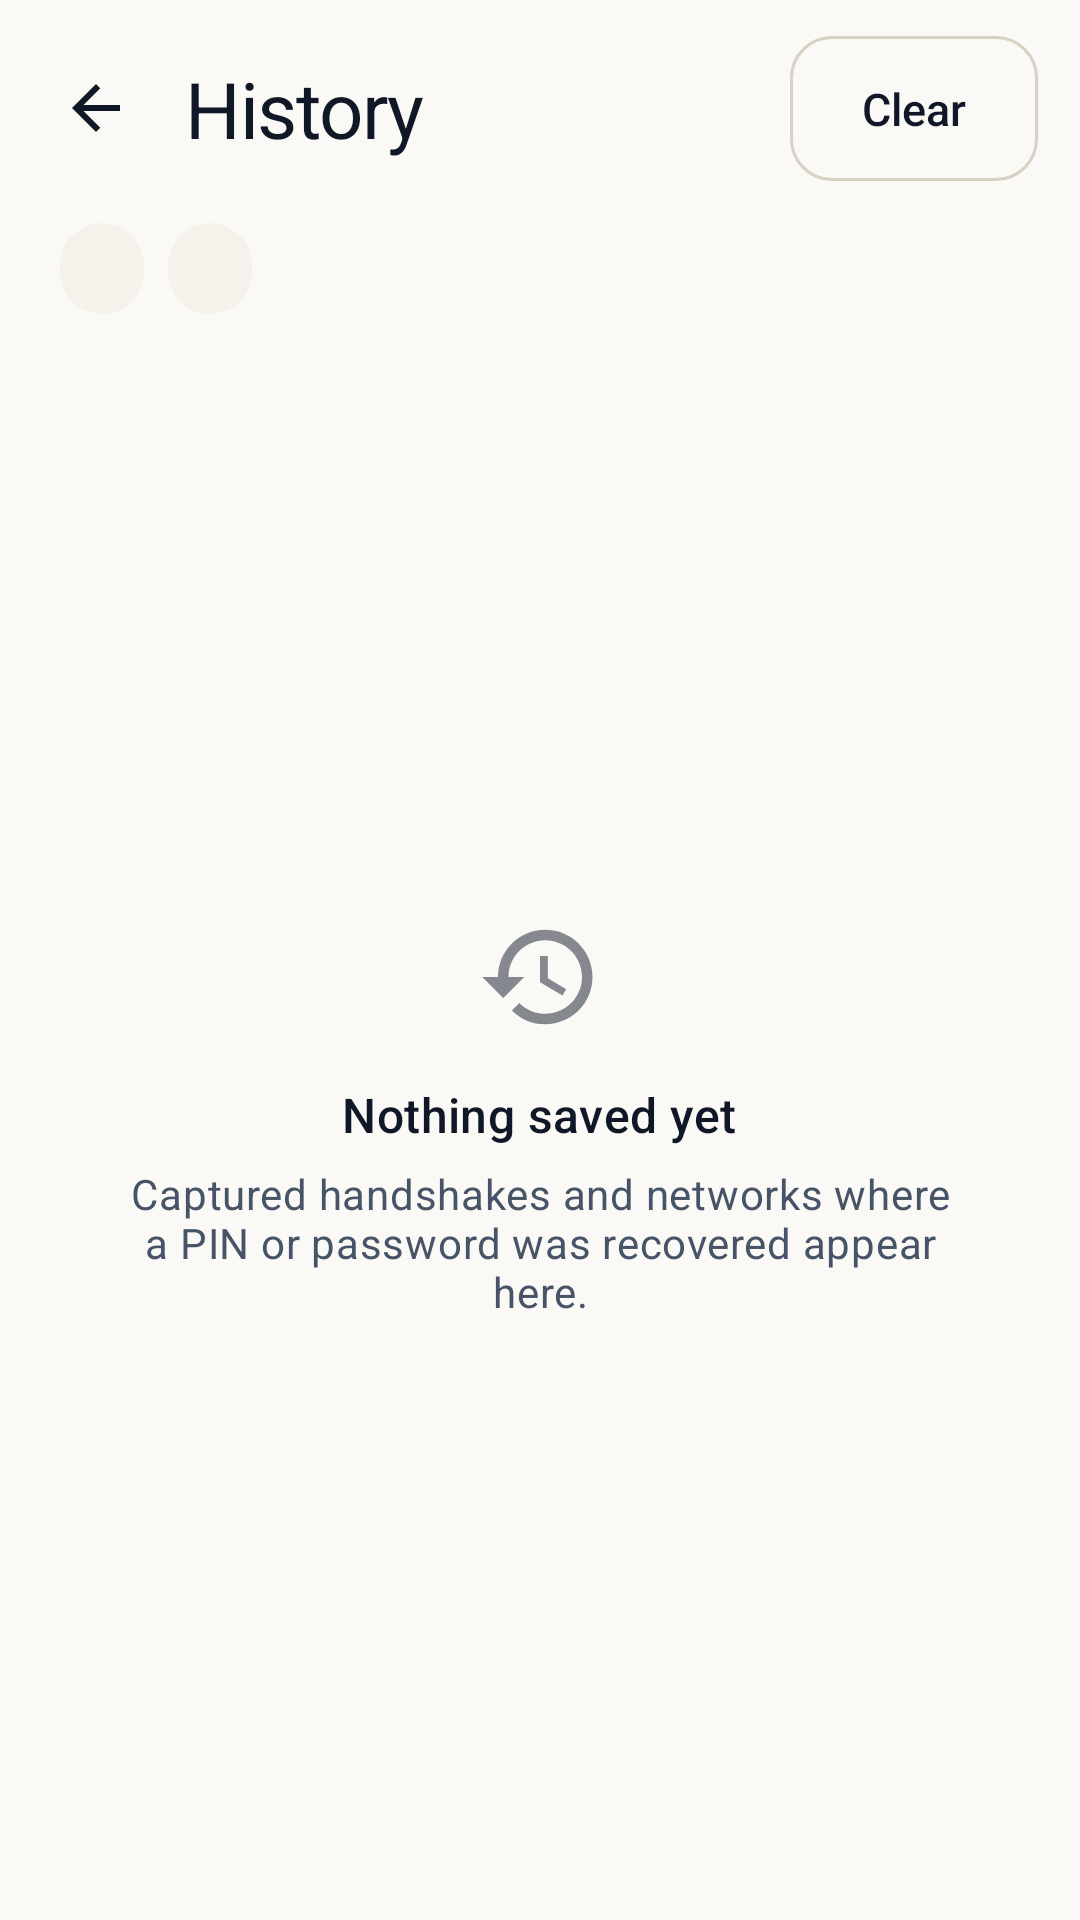

Where to tap for icons on this 1080 x 1920 app screen, as (x=x, y=y):
Back: (x=96, y=108)
